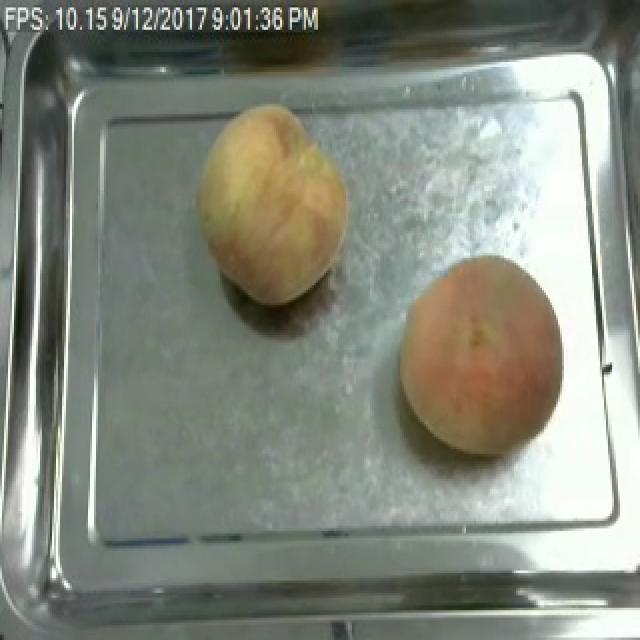Fruit: (390, 250, 576, 464), (188, 96, 358, 312)
